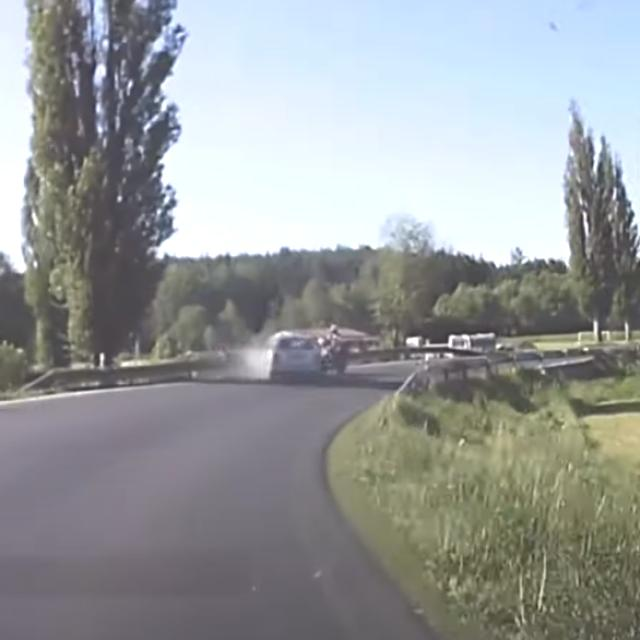accident: (255, 321, 352, 385)
